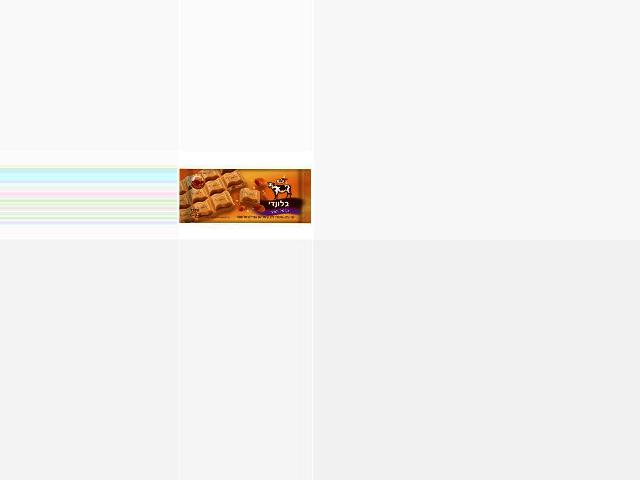chocolate: (179, 169, 315, 227)
